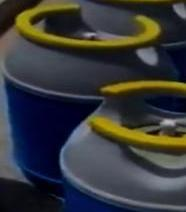cylinder: (1, 1, 186, 212)
